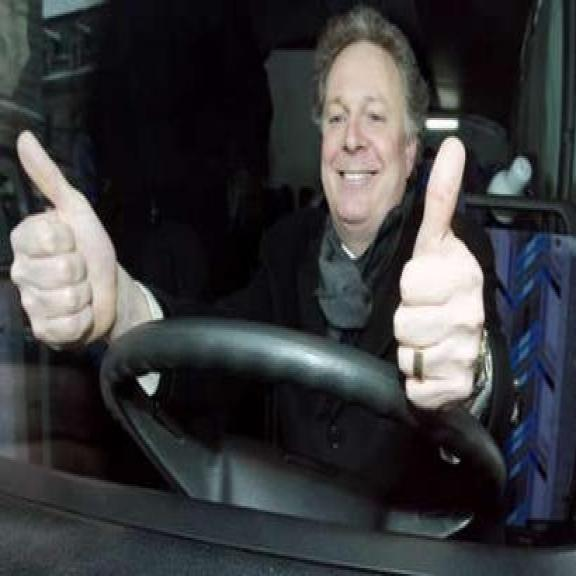face: (320, 42, 426, 236)
